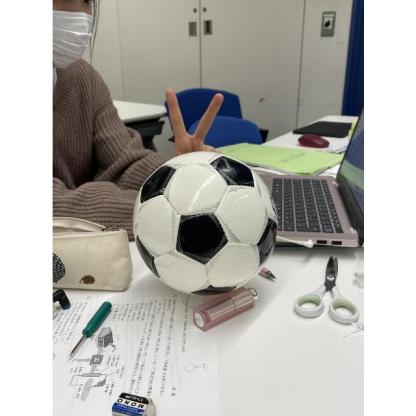ball: (132, 150, 279, 298)
